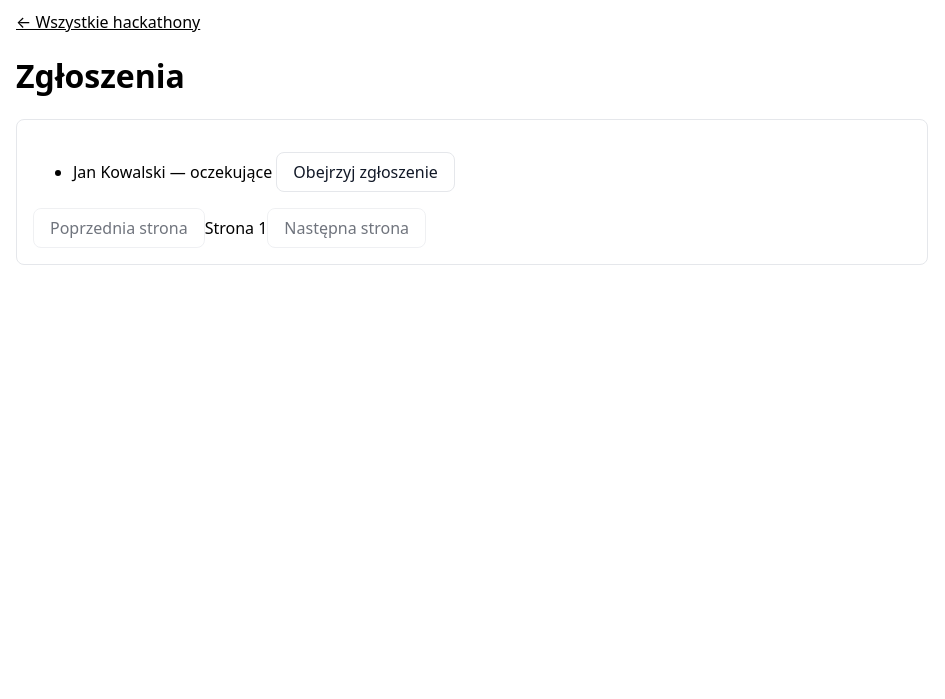
Test: ManageRegistrationsPage › shows a locked-status message, refetches data and disables actions
Click the button "Obejrzyj zgłoszenie".
click(366, 172)  # box [276, 152, 455, 192]
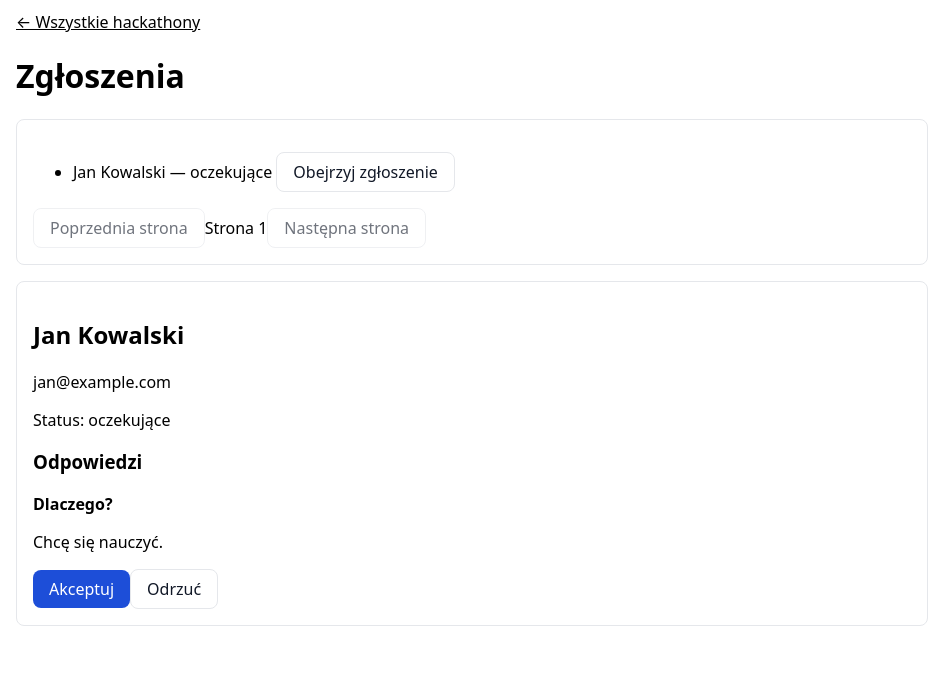
Click the button "Akceptuj".
click(82, 589)  # box [33, 570, 130, 608]
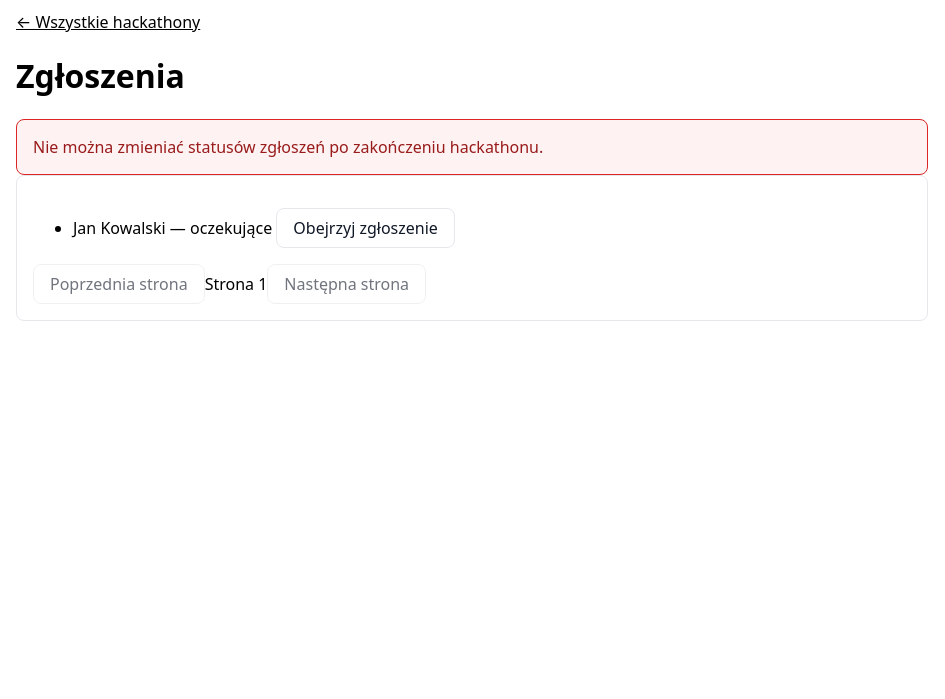
Check: the text "Nie można zmieniać statusów zgłoszeń po zakończeniu hackathonu." is shown, box [16, 119, 928, 175]
Click the button "Obejrzyj zgłoszenie".
click(366, 228)  # box [276, 208, 455, 248]
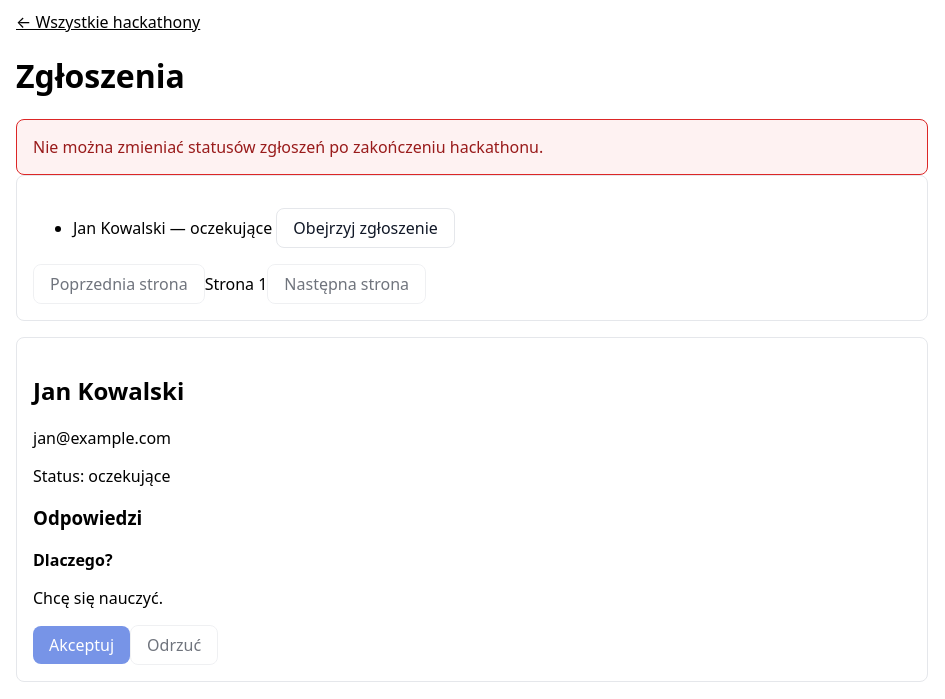
Check: the button "Akceptuj" is disabled, box [33, 626, 130, 664]
Check: the button "Odrzuć" is disabled, box [130, 625, 218, 665]
